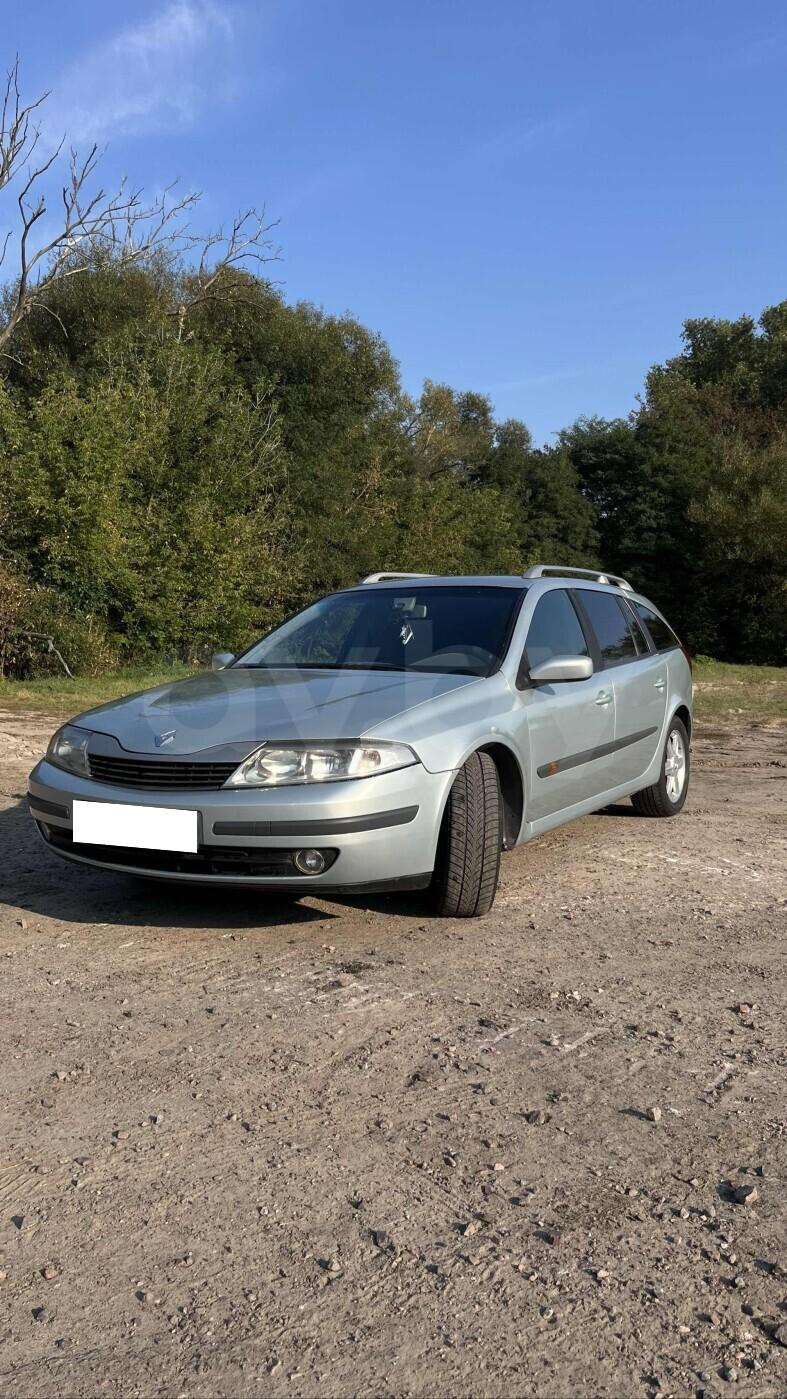Laguna_2001-2005: (29, 565, 691, 918)
